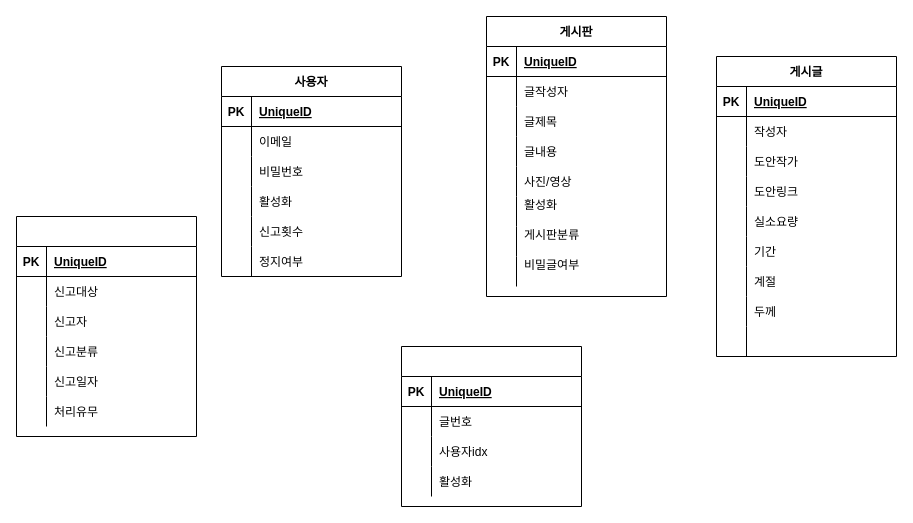
This 913x523 diagram has some shape labels left out. The shapes that lost their labels are listed below. From the top down, each one's box as (x1, y1, x2, y2) in pixels, then its label:
(16, 216, 196, 436): 신고
(400, 346, 582, 506): 북마크
